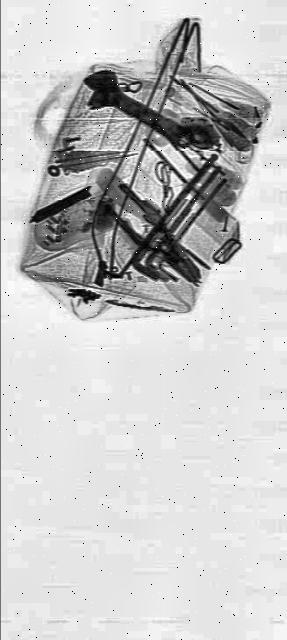Pliers: (111, 175, 203, 301)
Wrench: (81, 52, 196, 172)
